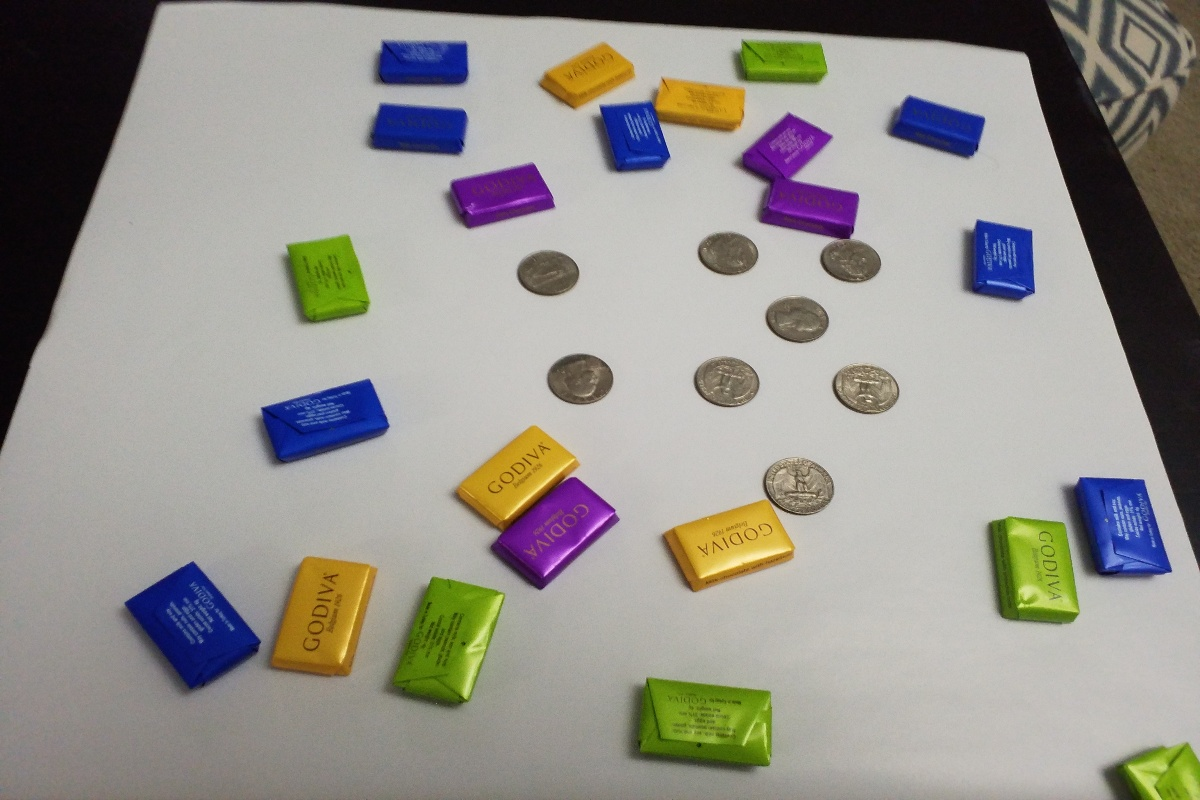chocolate_blue: (114, 549, 270, 700), (245, 374, 402, 471), (1065, 461, 1182, 590), (956, 207, 1040, 310), (882, 92, 991, 169), (360, 95, 481, 160), (370, 30, 476, 90), (597, 100, 675, 177)
chocolate_green: (629, 668, 787, 774), (392, 573, 506, 709), (980, 507, 1086, 629), (280, 223, 374, 327), (728, 33, 837, 86)
chocolate_purple: (492, 474, 621, 595), (443, 153, 564, 231), (752, 176, 869, 239), (735, 106, 829, 182)
chocolate_yellow: (257, 546, 384, 681), (448, 416, 575, 530), (656, 502, 799, 590), (535, 34, 638, 106), (646, 70, 748, 131)
coin_quarter: (686, 343, 773, 424), (505, 237, 599, 307), (542, 346, 621, 423), (760, 451, 843, 522), (687, 218, 770, 284), (824, 353, 903, 421), (754, 295, 845, 351), (812, 235, 888, 290)
